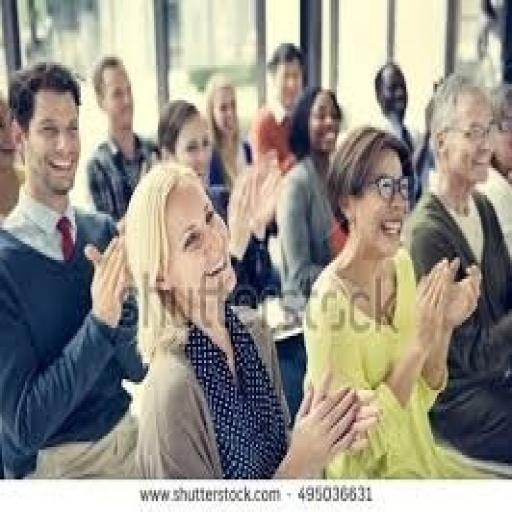clapping: (120, 157, 370, 480), (298, 122, 489, 479), (0, 60, 148, 480), (399, 70, 510, 466), (83, 54, 160, 225)
